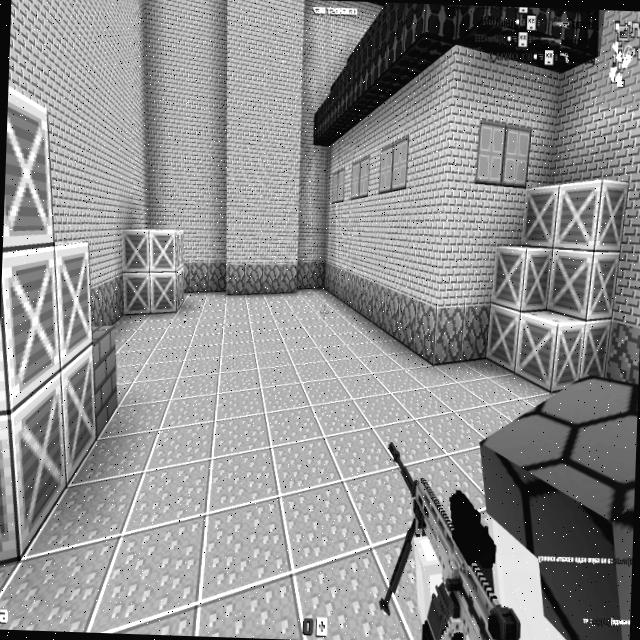Head: (471, 367, 638, 640)
Player: (372, 363, 638, 640)
